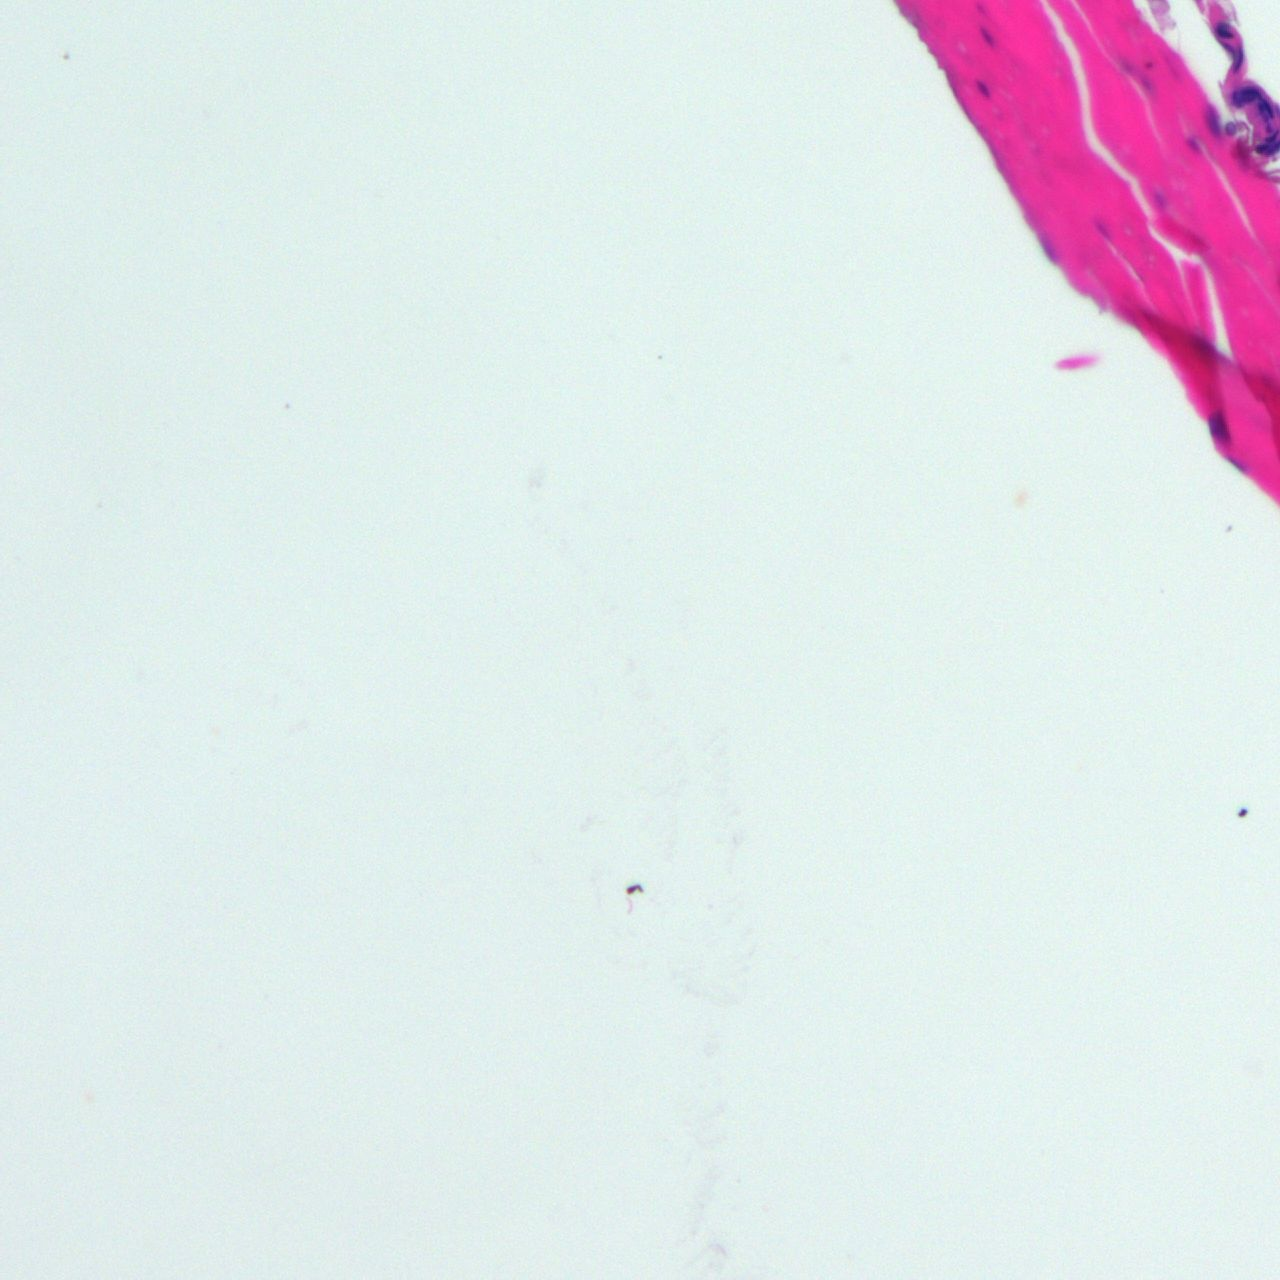dust: (1237, 806, 1247, 818)
nucleus-HE: (1205, 409, 1233, 445), (1251, 96, 1279, 131), (1228, 82, 1260, 109), (972, 22, 998, 52), (972, 77, 992, 100), (1182, 135, 1201, 157), (1214, 21, 1234, 39), (1235, 41, 1242, 73), (1257, 144, 1266, 152)
